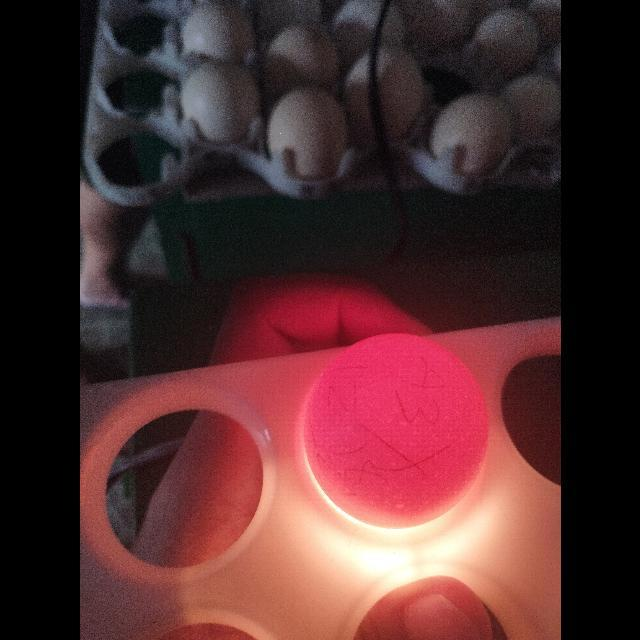Infertile: (299, 328, 496, 532)
